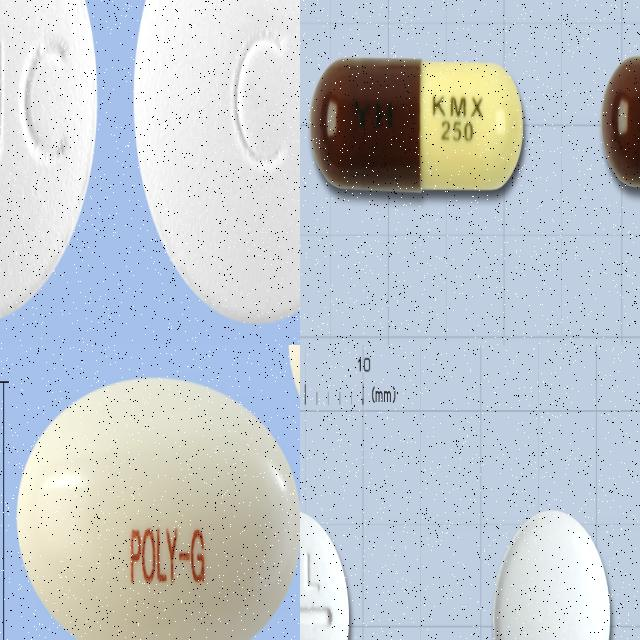Kymoxin Cap: (310, 56, 524, 194)
Mega Ciflox: (133, 0, 300, 324), (0, 0, 99, 321)
Poly G Vaginal Soft Cap: (17, 373, 300, 640)
Shuclari Tab: (492, 507, 612, 640), (300, 509, 351, 640)
